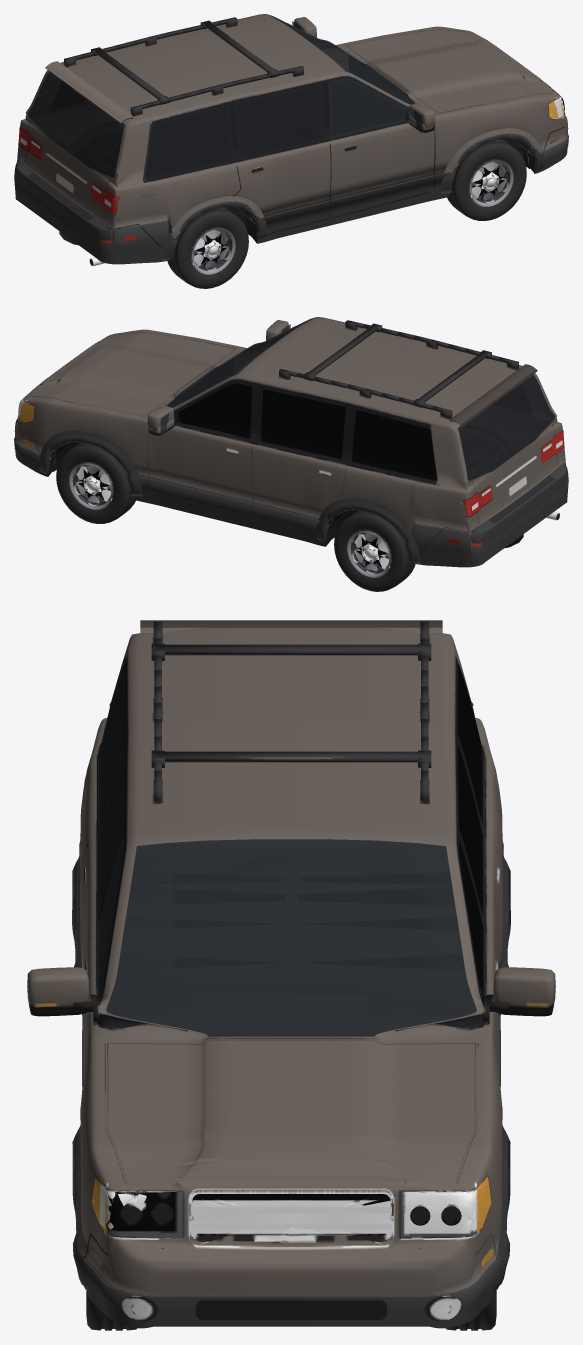
The model's file is suv_baked.glb.
3 views of the same model, one above another, from view 1: azimuth 30°, elevation 25°; view 2: azimuth 150°, elevation 25°; view 3: azimuth 270°, elevation 25° (orthographic). The views are drawn at different scales.
Visible parts, largest first — view 1: body, hood, wheel_rr, wheel_fr, bay, lamp_tail; view 2: body, hood, wheel_rl, wheel_fl, lamp_tail, bay; view 3: body, hood, lamp_head, lamp_amber.
Boxes of the visible parts, x1=… form: body: x1=14, y1=14, x2=568, y2=266; hood: x1=346, y1=28, x2=556, y2=113; wheel_rr: x1=167, y1=207, x2=248, y2=288; wheel_fr: x1=447, y1=139, x2=526, y2=220; bay: x1=349, y1=55, x2=529, y2=165; lamp_tail: x1=14, y1=88, x2=124, y2=243; body: x1=14, y1=317, x2=568, y2=567; hood: x1=26, y1=331, x2=236, y2=416; wheel_rl: x1=334, y1=510, x2=415, y2=591; wheel_fl: x1=56, y1=442, x2=135, y2=523; lamp_tail: x1=446, y1=391, x2=568, y2=546; bay: x1=53, y1=358, x2=233, y2=468; body: x1=27, y1=620, x2=555, y2=1328; hood: x1=106, y1=1039, x2=476, y2=1194; lamp_head: x1=121, y1=1206, x2=461, y2=1316; lamp_amber: x1=90, y1=1182, x2=492, y2=1266.
Size of the model in its own units: 4.93 by 1.85 by 2.38.
16 materials, 6 textured.
